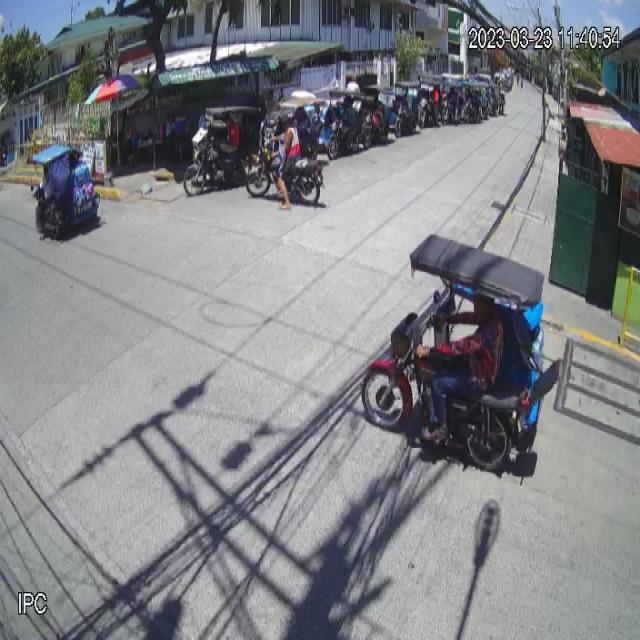Motorcycle: (246, 140, 324, 213)
Tricycle: (361, 232, 543, 470), (28, 142, 101, 242)
